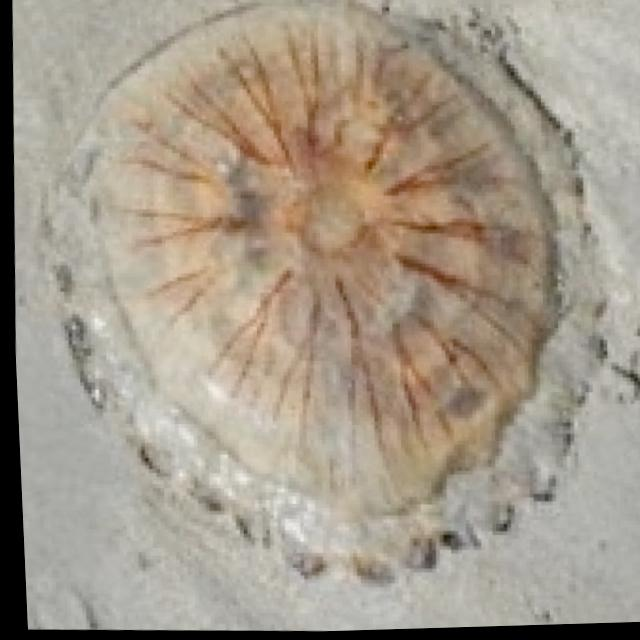Box-jellyfish: (13, 0, 604, 596)
